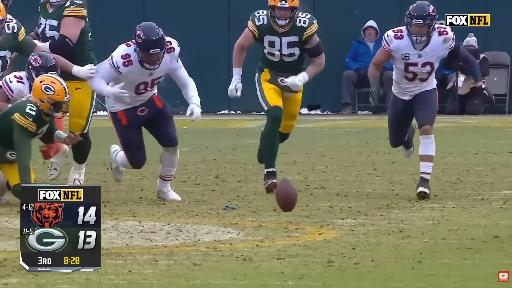Helmet: (31, 74, 70, 118), (134, 22, 166, 70), (405, 1, 437, 43), (26, 52, 59, 85), (268, 0, 299, 30), (0, 2, 7, 31), (45, 0, 66, 6), (2, 0, 11, 10)
Jersey: (96, 37, 182, 111), (383, 25, 455, 99), (248, 10, 318, 74), (38, 0, 97, 66), (0, 99, 57, 150), (0, 15, 36, 74), (2, 71, 30, 101)
Player: (368, 1, 483, 199), (89, 22, 201, 200), (228, 0, 325, 193), (0, 75, 81, 198), (61, 69, 96, 184), (0, 52, 59, 110), (0, 2, 45, 74), (2, 0, 11, 11)
